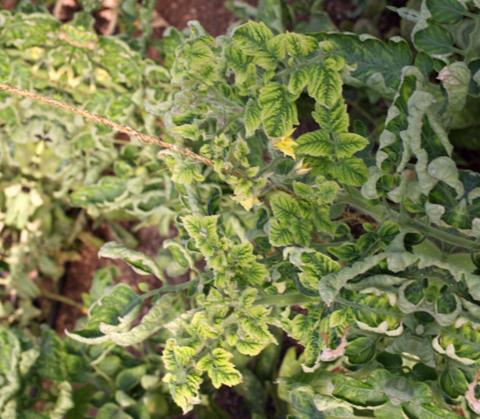Tomato leaf yellow virus: (145, 332, 216, 415), (227, 1, 301, 74), (243, 70, 312, 147), (173, 197, 240, 270), (209, 305, 286, 365), (190, 339, 252, 398), (296, 57, 354, 120), (264, 201, 320, 257), (284, 119, 349, 166), (320, 147, 377, 191), (258, 188, 312, 232), (291, 245, 338, 291), (332, 127, 380, 168), (220, 238, 261, 273)
